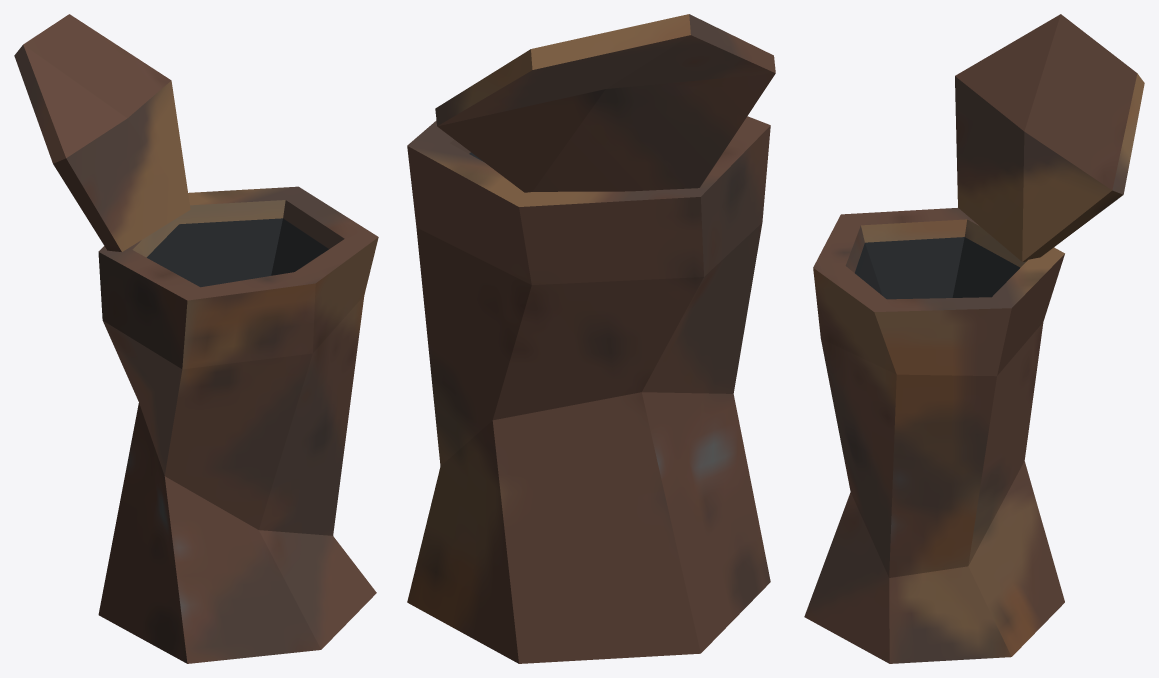
Rendered from SM_Item_Can_06.obj.
3 views of the same model, side by side, from view 1: azimuth 30°, elevation 25°; view 2: azimuth 150°, elevation 25°; view 3: azimuth 270°, elevation 25° (orthographic). The views are drawn at different scales.
Parts seen in each view (by area): view 1: SM_Item_Can_06_0; view 2: SM_Item_Can_06_0; view 3: SM_Item_Can_06_0.
Boxes of the visible parts, x1,y1,x2,y2 form: SM_Item_Can_06_0: (14,14,378,663); SM_Item_Can_06_0: (407,14,775,663); SM_Item_Can_06_0: (804,14,1144,663).
Bounding box in the file's own units: 0.167 × 0.3076 × 0.1805.
1 material, 1 textured.
